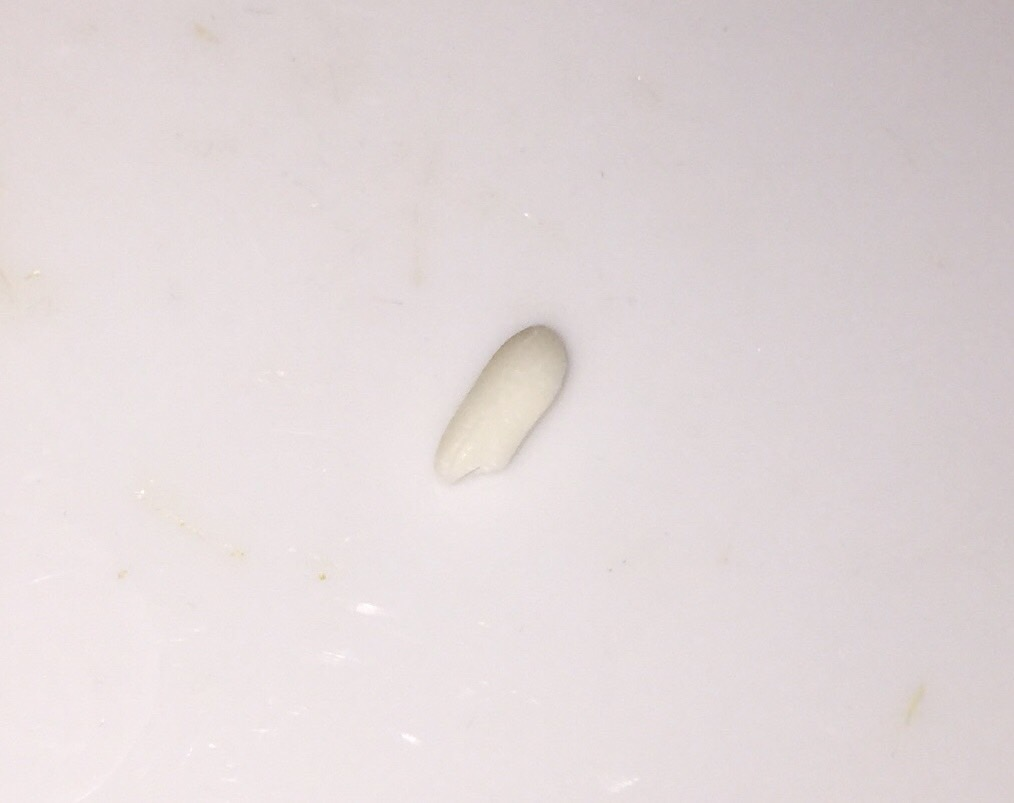Gao Nep Sap: (422, 313, 590, 503)
